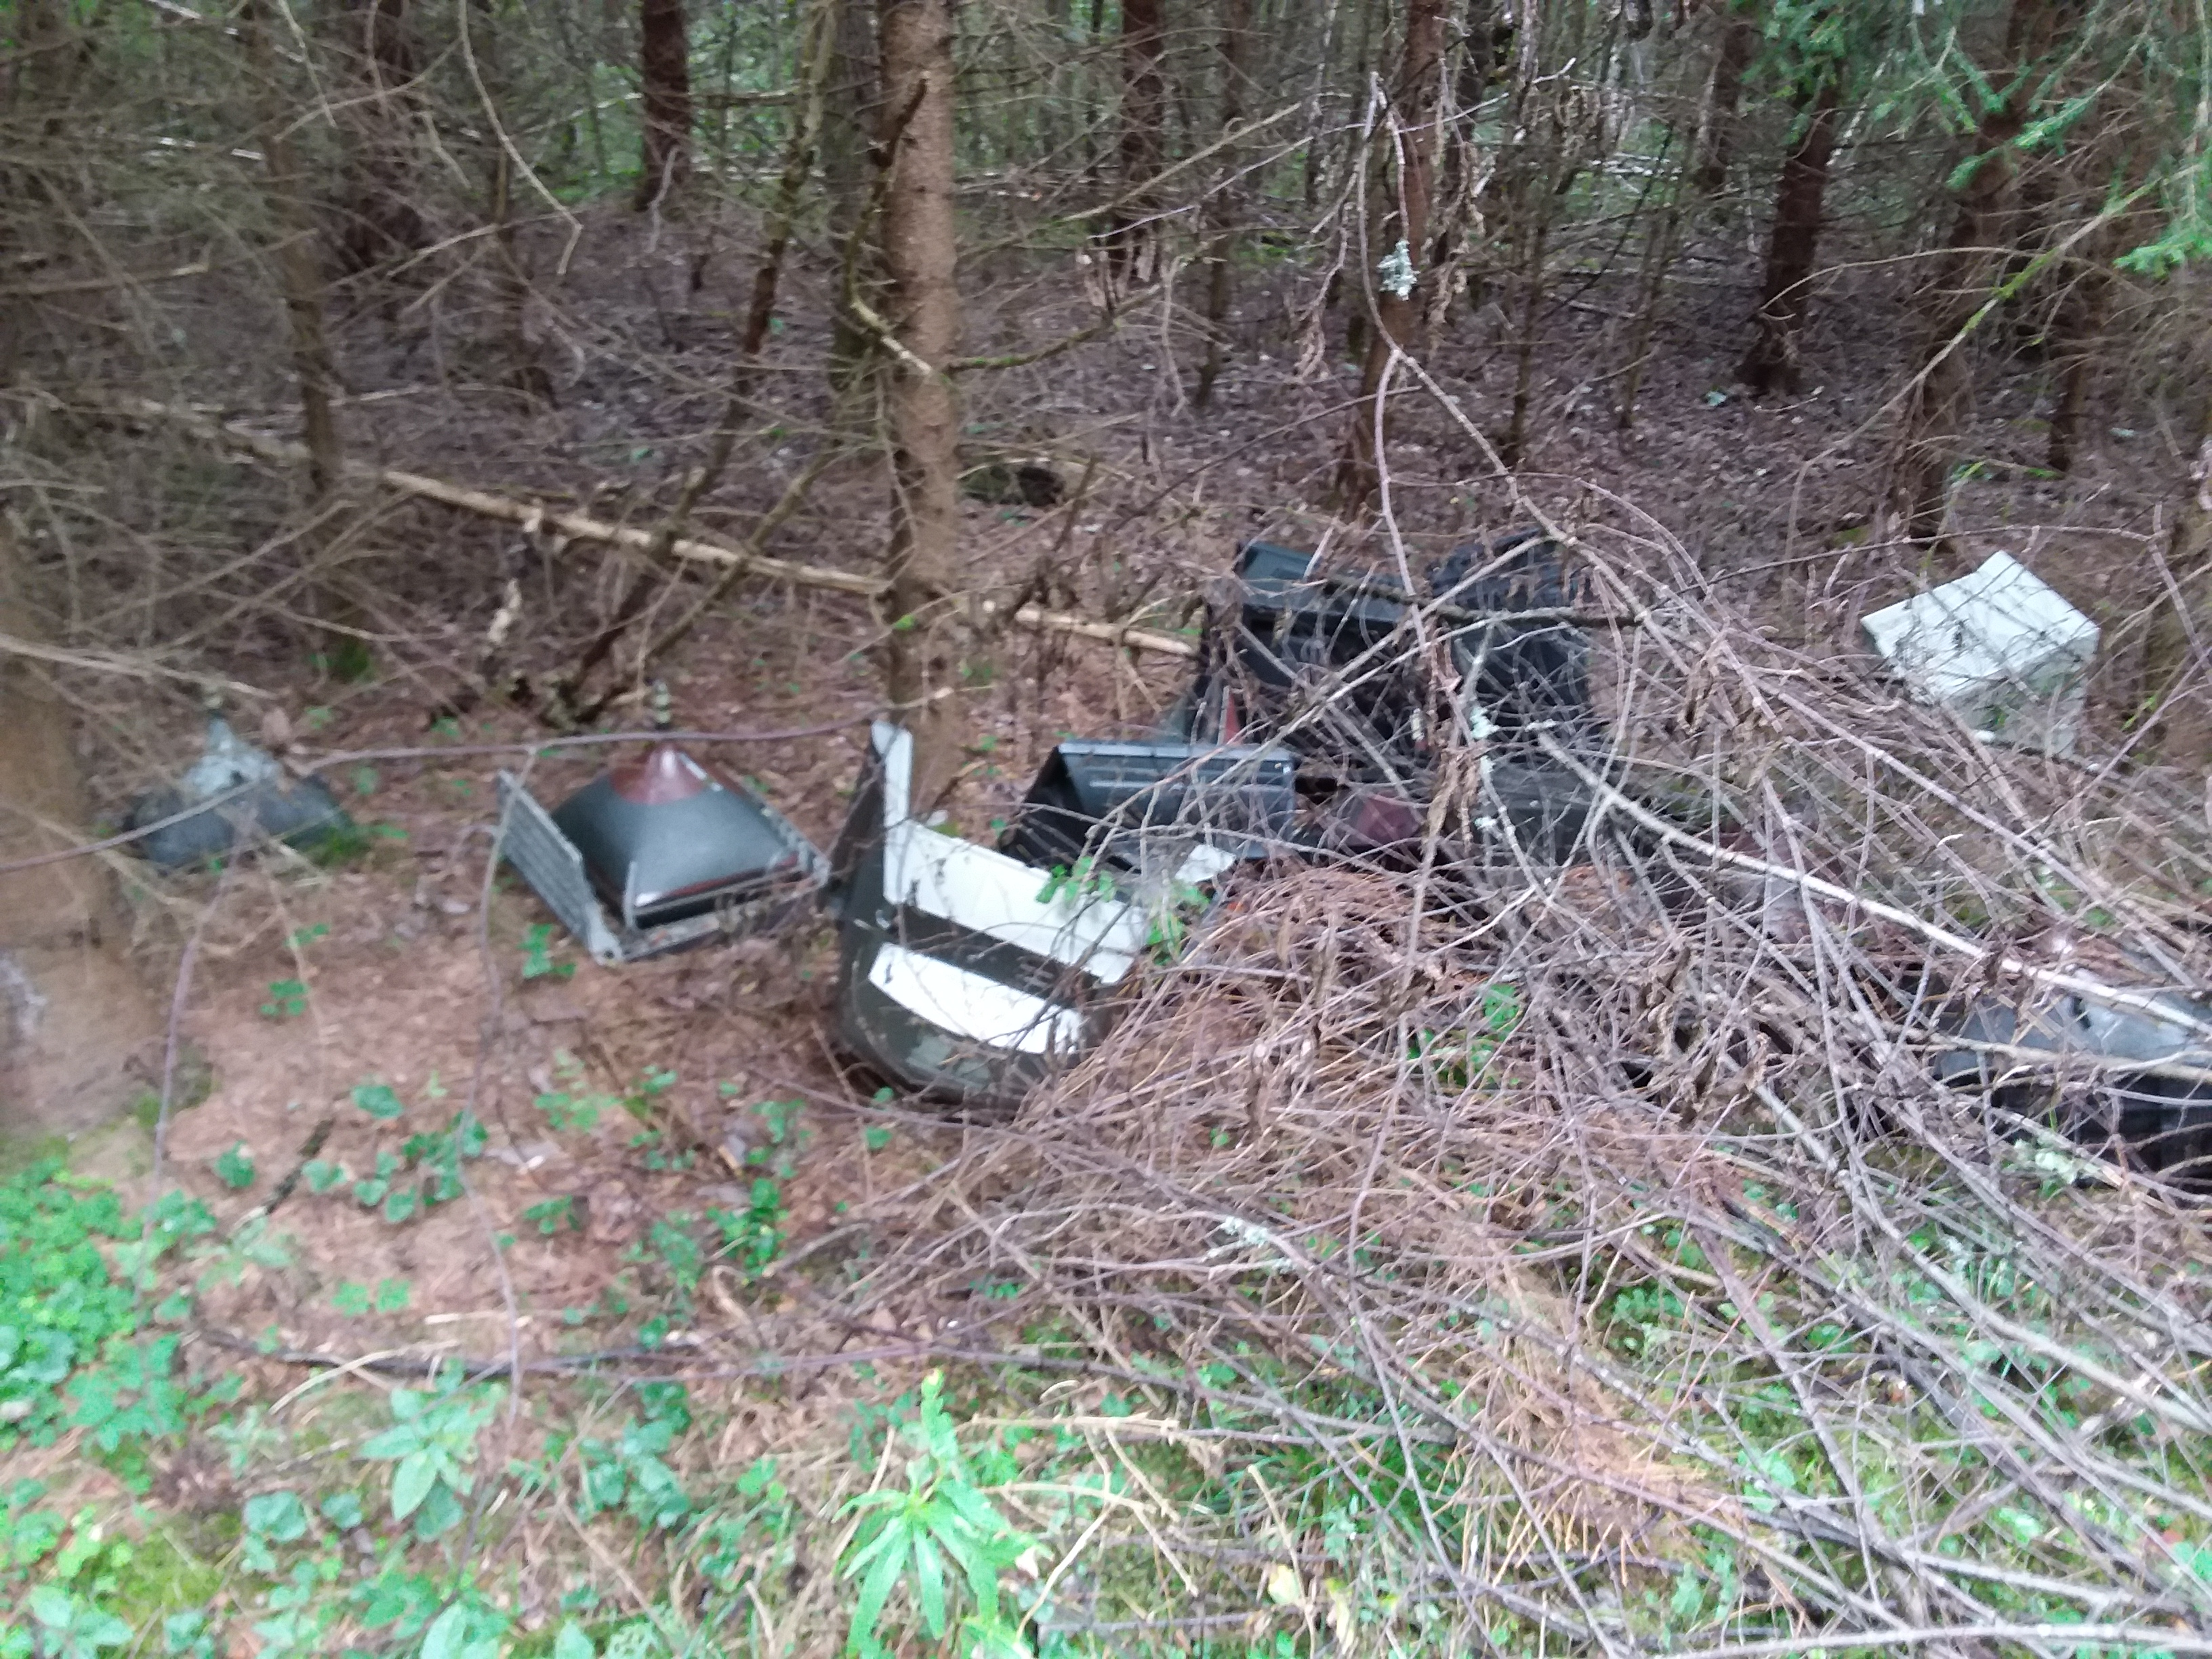trash: (786, 471, 1622, 1143), (463, 633, 827, 969), (1919, 903, 2212, 1194), (110, 685, 347, 925), (1860, 537, 2114, 713)
